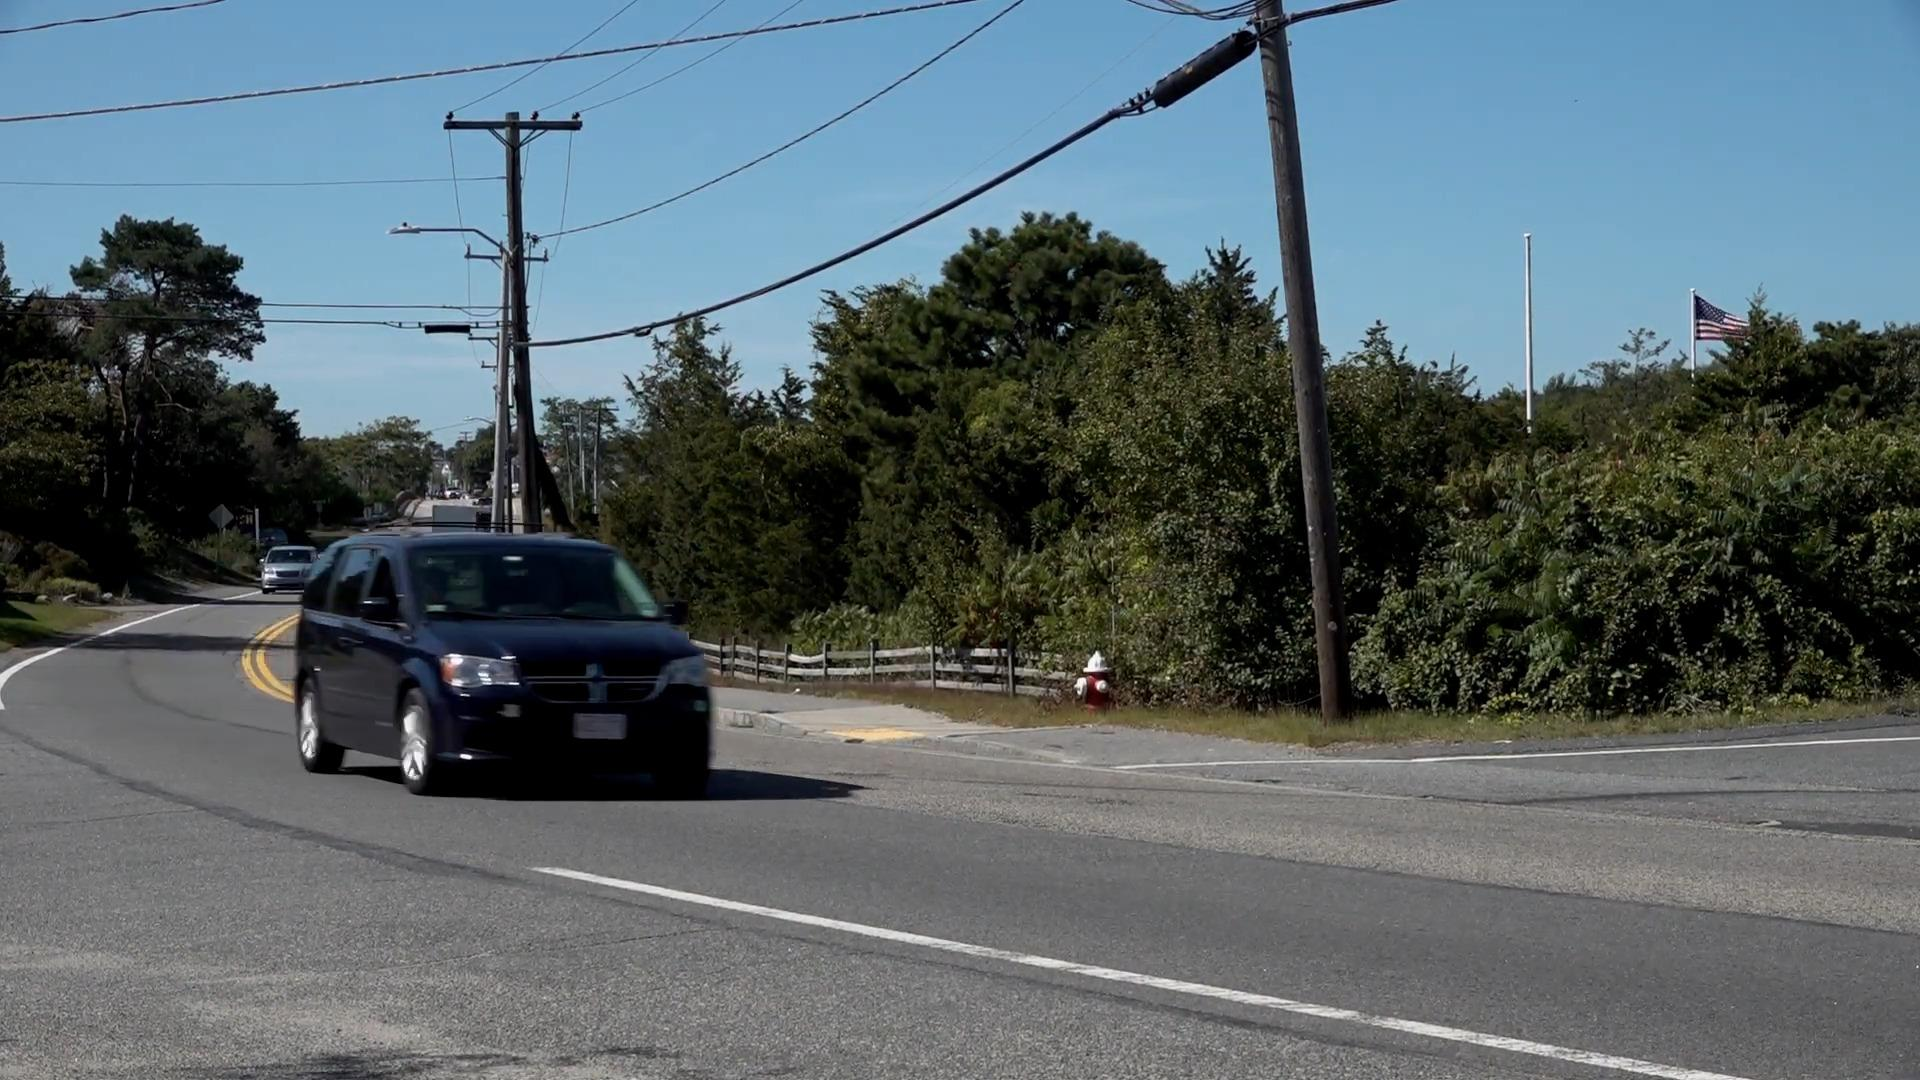minivan: (293, 525, 712, 793)
